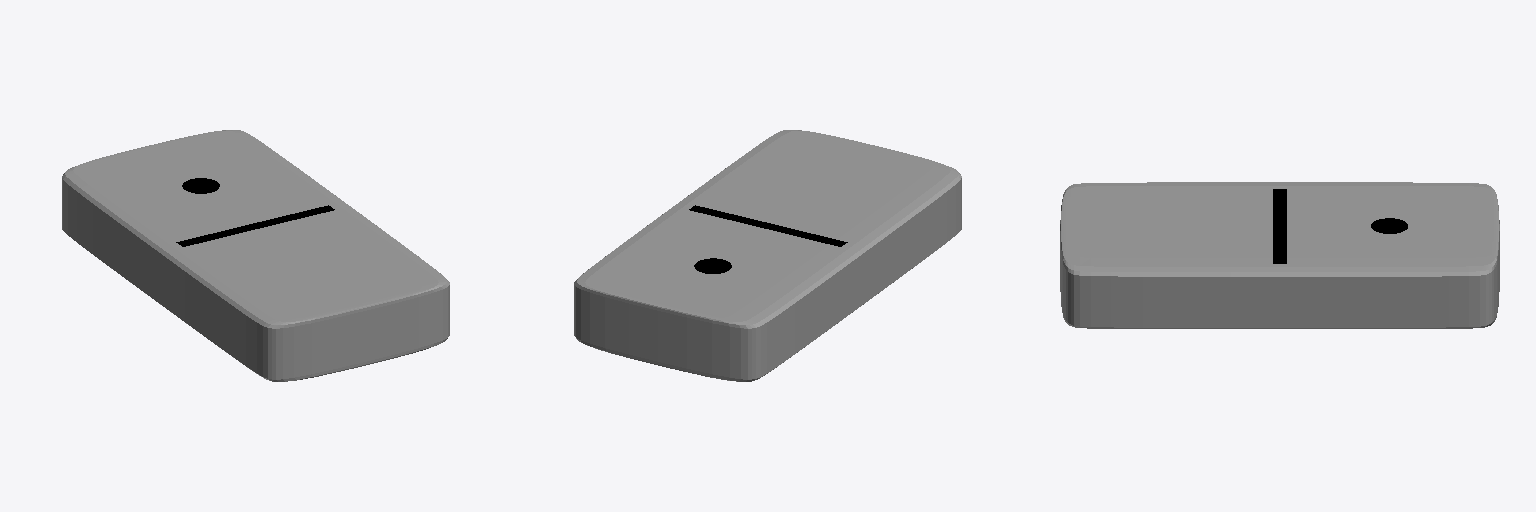
3 views of the same model, side by side, from view 1: azimuth 30°, elevation 25°; view 2: azimuth 150°, elevation 25°; view 3: azimuth 270°, elevation 25° (orthographic).
Visible parts, largest first — view 1: Domino_1-1_Cube.019; view 2: Domino_1-1_Cube.019; view 3: Domino_1-1_Cube.019.
Boxes of the visible parts, x1,y1,x2,y2 form: Domino_1-1_Cube.019: [62, 130, 449, 381]; Domino_1-1_Cube.019: [574, 130, 961, 381]; Domino_1-1_Cube.019: [1060, 182, 1499, 328].
Size of the model in its own units: 2 by 0.5993 by 3.99.